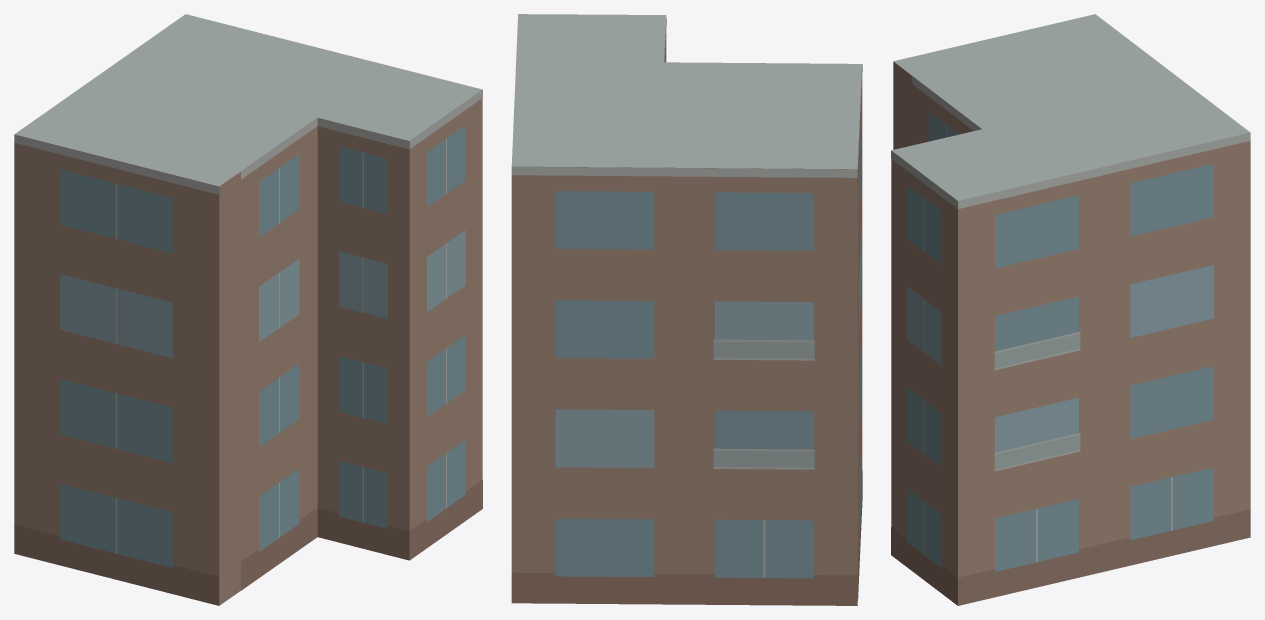
Rendered from residential-e4682213-3cfb-4355-a1d9-05f929554175.glb.
3 views of the same model, side by side, from view 1: azimuth 30°, elevation 25°; view 2: azimuth 150°, elevation 25°; view 3: azimuth 270°, elevation 25° (orthographic). The views are drawn at different scales.
Parts seen in each view (by area): view 1: residential-e4682213-3cfb-4355-a1d9-05f929554175.tmp; view 2: residential-e4682213-3cfb-4355-a1d9-05f929554175.tmp; view 3: residential-e4682213-3cfb-4355-a1d9-05f929554175.tmp.
Boxes of the visible parts, x1,y1,x2,y2 form: residential-e4682213-3cfb-4355-a1d9-05f929554175.tmp: (14,14,482,605); residential-e4682213-3cfb-4355-a1d9-05f929554175.tmp: (511,14,862,605); residential-e4682213-3cfb-4355-a1d9-05f929554175.tmp: (891,14,1250,605).
Size of the model in its own units: 12.1 by 12.2 by 9.83.
